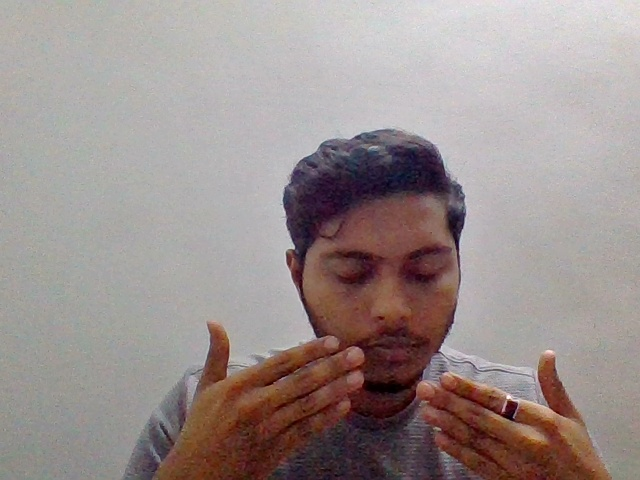Thanks: (157, 316, 615, 480)
